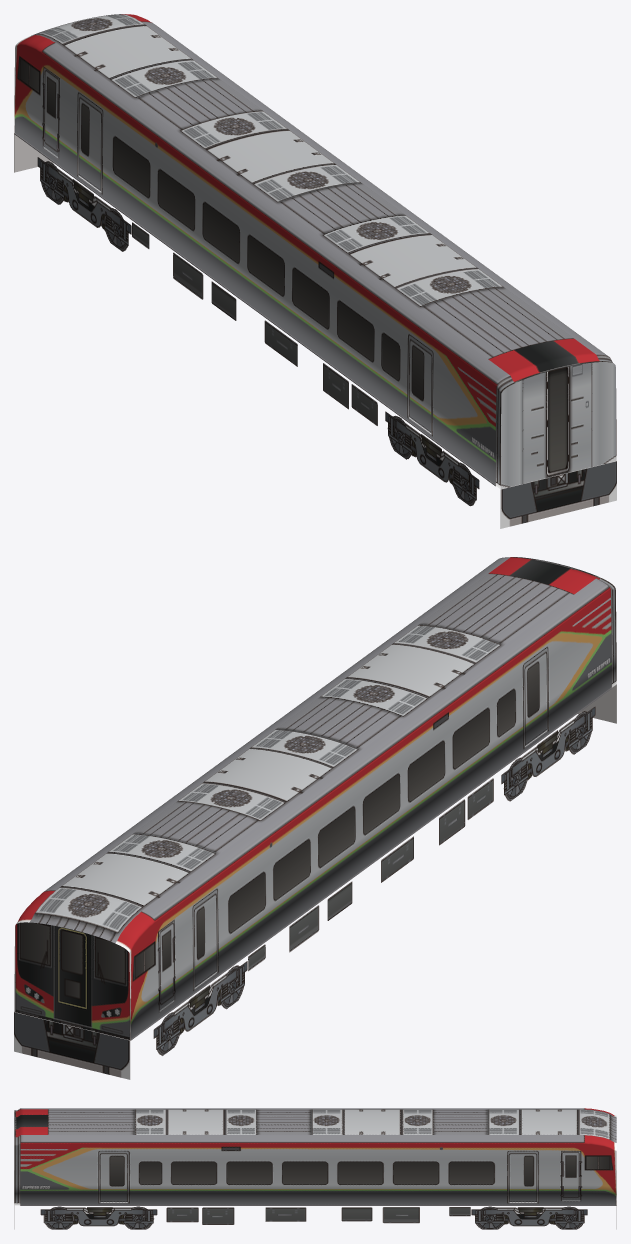
File: car2.glb
3 renders of one model, top to bottom at view 1: azimuth 30°, elevation 25°; view 2: azimuth 150°, elevation 25°; view 3: azimuth 270°, elevation 25°, orthographic. The views are drawn at different scales.
Parts seen in each view (by area): view 1: jr-shikoku-2700-car2; view 2: jr-shikoku-2700-car2; view 3: jr-shikoku-2700-car2.
Part boxes in pixels (box(x1,y1,x2,y2)): jr-shikoku-2700-car2: box(14, 14, 616, 528); jr-shikoku-2700-car2: box(14, 557, 616, 1079); jr-shikoku-2700-car2: box(14, 1108, 616, 1229).
Size of the model in its own units: 2.79 by 3.42 by 20.24.
Materials: 8 (7 with a texture image).
